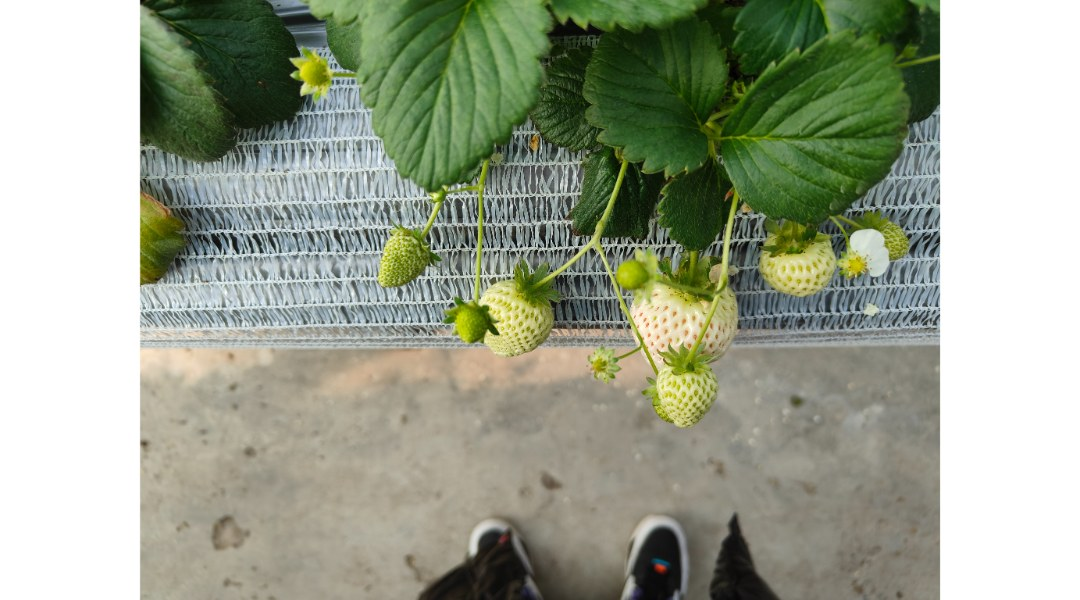berry: (629, 246, 742, 382), (479, 268, 553, 363), (655, 342, 720, 439), (759, 221, 834, 298), (368, 220, 435, 292), (284, 40, 333, 116), (441, 300, 500, 346), (610, 249, 654, 298)
flower: (850, 219, 892, 285)
strain: (597, 254, 642, 338), (599, 157, 630, 243), (473, 161, 488, 292), (718, 191, 738, 281), (541, 252, 587, 289)
